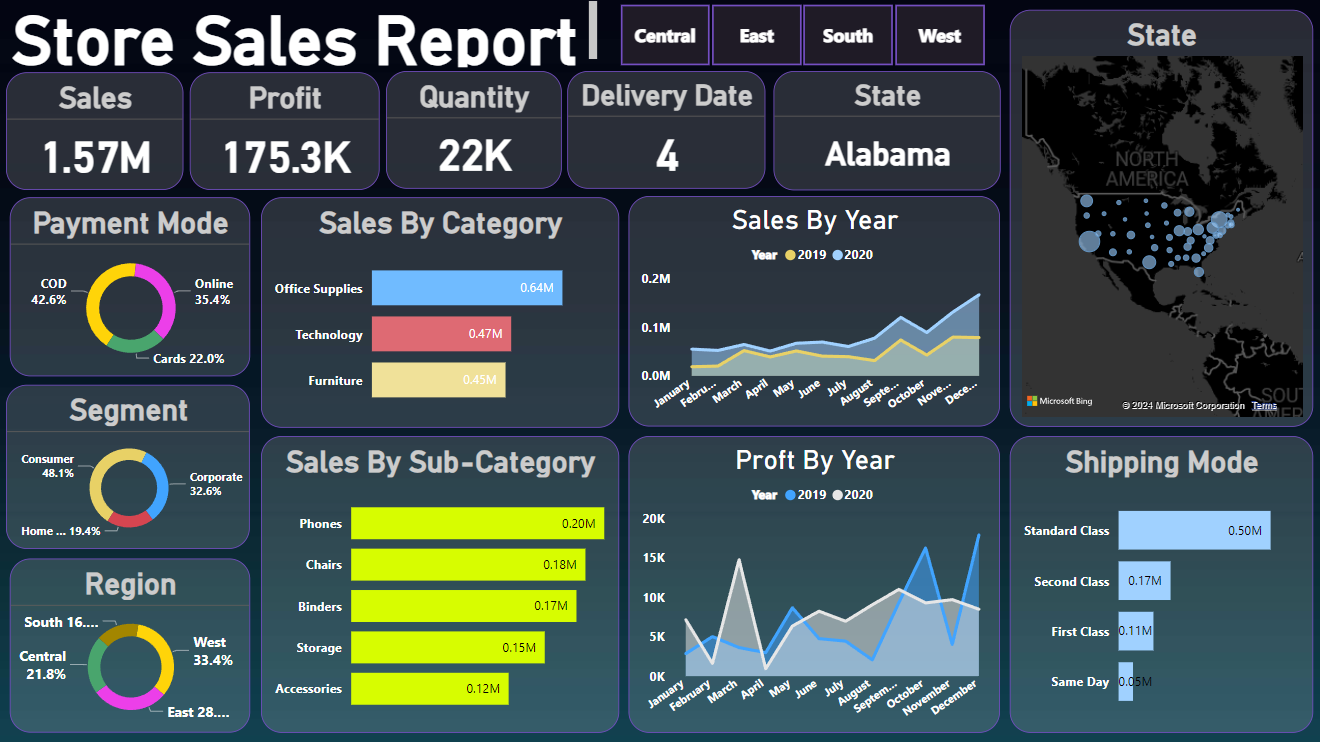

Layout of this report page (visuals, bound fields, positions):
{"tool":"powerbi","page":{"name":"Page 1","canvas":[1280,720],"ordinal":0},"visuals":[{"type":"barChart","title":"Sales By Category","fields":{"Category":["SuperStore_Sales_Dataset.Category"],"Y":["Sum(SuperStore_Sales_Dataset.Sales)"]},"box":[255.5,193.6,345.5,222.7],"z":0},{"type":"barChart","title":"Sales By Sub-Category","fields":{"Category":["SuperStore_Sales_Dataset.Sub-Category"],"Y":["Sum(SuperStore_Sales_Dataset.Sales)"]},"box":[255.5,424.5,345.5,286.4],"z":1000},{"type":"barChart","title":"Shipping Mode","fields":{"Category":["SuperStore_Sales_Dataset.Ship Mode"],"Y":["Sum(SuperStore_Sales_Dataset.Sales)"]},"box":[978.3,424.2,292.5,286.7],"z":2000},{"type":"areaChart","title":"Sales By Year","fields":{"Y":["Sum(SuperStore_Sales_Dataset.Sales)"],"Series":["SuperStore_Sales_Dataset.Order Date.Variation.Date Hierarchy.Year"],"Category":["SuperStore_Sales_Dataset.Order Date.Variation.Date Hierarchy.Month","SuperStore_Sales_Dataset.Order Date.Variation.Date Hierarchy.Day"]},"box":[610.8,193.3,358.3,222.5],"z":3000},{"type":"areaChart","title":"Proft By Year","fields":{"Series":["SuperStore_Sales_Dataset.Order Date.Variation.Date Hierarchy.Year"],"Category":["SuperStore_Sales_Dataset.Order Date.Variation.Date Hierarchy.Month","SuperStore_Sales_Dataset.Order Date.Variation.Date Hierarchy.Day"],"Y":["Sum(SuperStore_Sales_Dataset.Profit)"]},"box":[610.8,424.2,358.3,286.7],"z":4000},{"type":"map","title":"State","fields":{"Category":["SuperStore_Sales_Dataset.State"],"Size":["Sum(SuperStore_Sales_Dataset.Sales)"]},"box":[978.3,13.3,292.5,402.5],"z":5000},{"type":"donutChart","title":"Segment","fields":{"Category":["SuperStore_Sales_Dataset.Segment"],"Y":["Sum(SuperStore_Sales_Dataset.Sales)"]},"box":[10,375.5,235.5,158.2],"z":6000},{"type":"donutChart","title":"Payment Mode","fields":{"Y":["Sum(SuperStore_Sales_Dataset.Sales)"],"Category":["SuperStore_Sales_Dataset.Payment Mode"]},"box":[13.6,193.6,231.8,172.7],"z":7000},{"type":"donutChart","title":"Region","fields":{"Y":["Sum(SuperStore_Sales_Dataset.Sales)"],"Category":["SuperStore_Sales_Dataset.Region"]},"box":[13.6,542.7,231.8,168.2],"z":8000},{"type":"slicer","fields":{"Values":["SuperStore_Sales_Dataset.Region"]},"box":[576.2,1.2,401.2,72.5],"z":9000},{"type":"textbox","box":[0,0,585,73.8],"z":10000},{"type":"card","title":"Sales","fields":{"Values":["Sum(SuperStore_Sales_Dataset.Sales)"]},"box":[9.6,73.6,171.3,113.4],"z":11000},{"type":"card","title":"Quantity","fields":{"Values":["Sum(SuperStore_Sales_Dataset.Quantity)"]},"box":[375.7,72.9,169.3,113.6],"z":12000},{"type":"card","title":"Profit","fields":{"Values":["Sum(SuperStore_Sales_Dataset.Profit)"]},"box":[187.1,73.6,182.9,113.6],"z":13000},{"type":"card","title":"Delivery Date","fields":{"Values":["Avg(SuperStore_Sales_Dataset.AvgDeliveryDay)"]},"box":[551.4,72.9,191.4,113.6],"z":14000},{"type":"card","title":"State","fields":{"Values":["Min(SuperStore_Sales_Dataset.State)"]},"box":[750,72.5,219.2,115],"z":15000}]}

Visuals, with their boxes in screenshot pixels (x1, y1, x2, y2), scaled from the page's 1280x720 canvas onto the 1320x742 screenshot:
"Sales By Category" barChart: BBox(263, 200, 620, 429)
"Sales By Sub-Category" barChart: BBox(263, 437, 620, 733)
"Shipping Mode" barChart: BBox(1009, 437, 1311, 733)
"Sales By Year" areaChart: BBox(630, 199, 999, 429)
"Proft By Year" areaChart: BBox(630, 437, 999, 733)
"State" map: BBox(1009, 14, 1311, 429)
"Segment" donutChart: BBox(10, 387, 253, 550)
"Payment Mode" donutChart: BBox(14, 200, 253, 377)
"Region" donutChart: BBox(14, 559, 253, 733)
slicer - SuperStore_Sales_Dataset.Region: BBox(594, 1, 1008, 76)
textbox: BBox(0, 0, 603, 76)
"Sales" card: BBox(10, 76, 187, 193)
"Quantity" card: BBox(387, 75, 562, 192)
"Profit" card: BBox(193, 76, 382, 193)
"Delivery Date" card: BBox(569, 75, 766, 192)
"State" card: BBox(773, 75, 999, 193)
